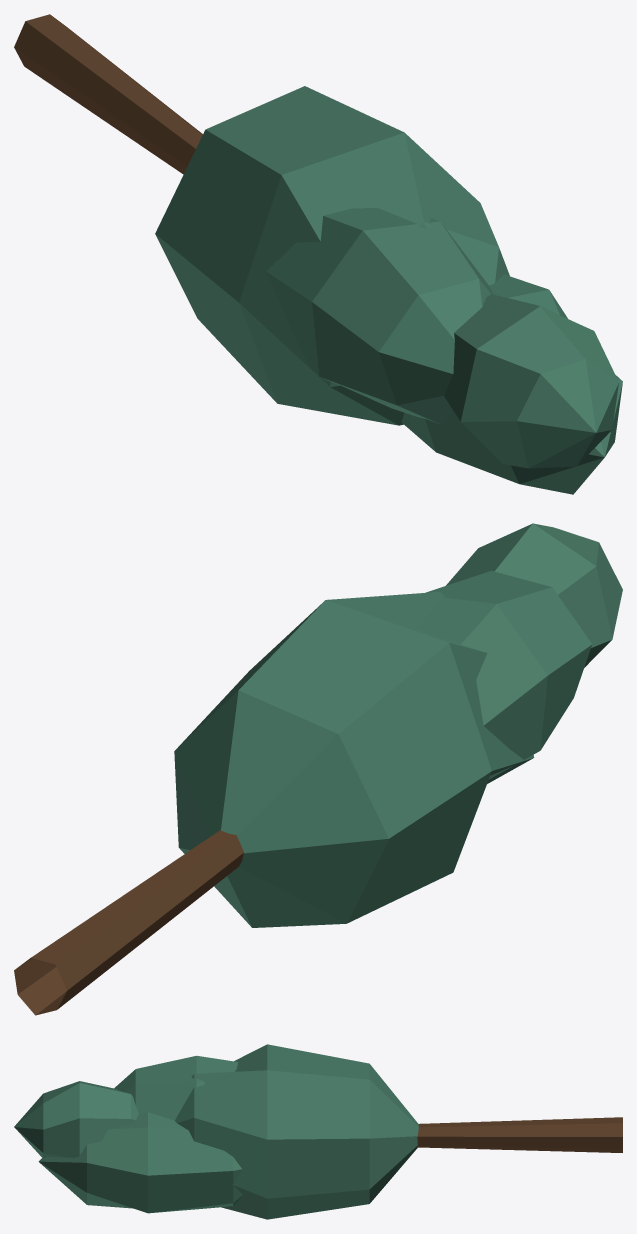
File: grown.glb
3 renders of one model, top to bottom at view 1: azimuth 30°, elevation 25°; view 2: azimuth 150°, elevation 25°; view 3: azimuth 270°, elevation 25°, orthographic. The views are drawn at different scales.
Visible parts, largest first — view 1: tree_11_grown; view 2: tree_11_grown; view 3: tree_11_grown.
Part boxes in pixels (x1,y1,x2,y2): tree_11_grown: (14, 14, 622, 494); tree_11_grown: (14, 523, 622, 1015); tree_11_grown: (14, 1044, 622, 1219).
Size of the model in its own units: 10.57 by 11.71 by 42.03.
